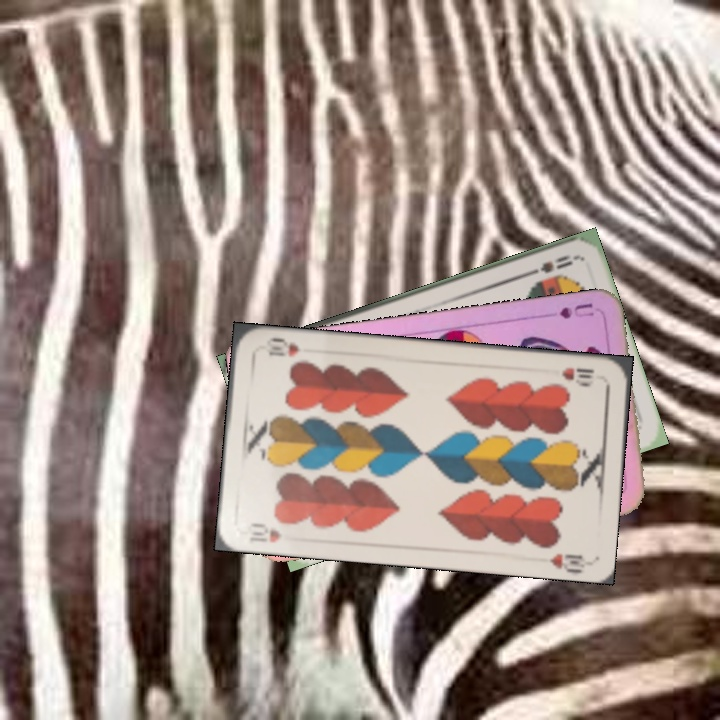H10: (245, 519, 285, 546), (557, 363, 597, 383)
SO: (521, 251, 579, 279)
SU: (538, 299, 597, 322)
